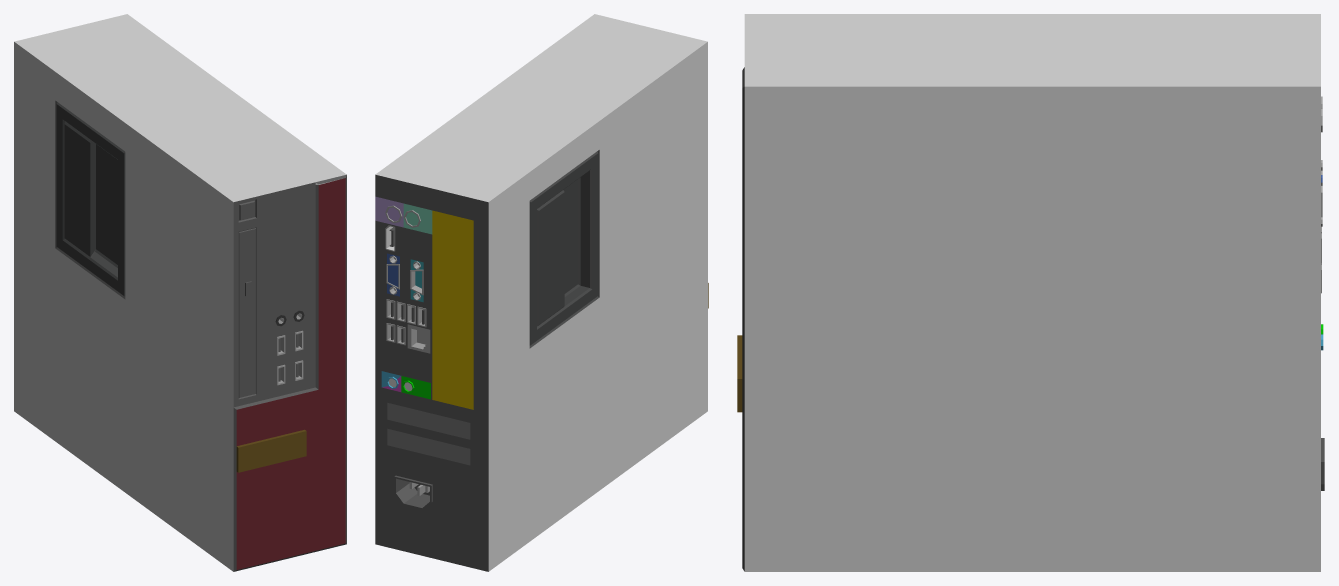
3 views of the same model, side by side, from view 1: azimuth 30°, elevation 25°; view 2: azimuth 150°, elevation 25°; view 3: azimuth 270°, elevation 25° (orthographic). The views are drawn at different scales.
Parts seen in each view (by area): view 1: Cube; view 2: Cube; view 3: Cube.
Boxes of the visible parts, <box> form: Cube: <box>14,14,346,571</box>; Cube: <box>375,14,708,571</box>; Cube: <box>737,14,1324,571</box>.
Bounding box in the file's own units: 9.3 × 29 × 31.8.
